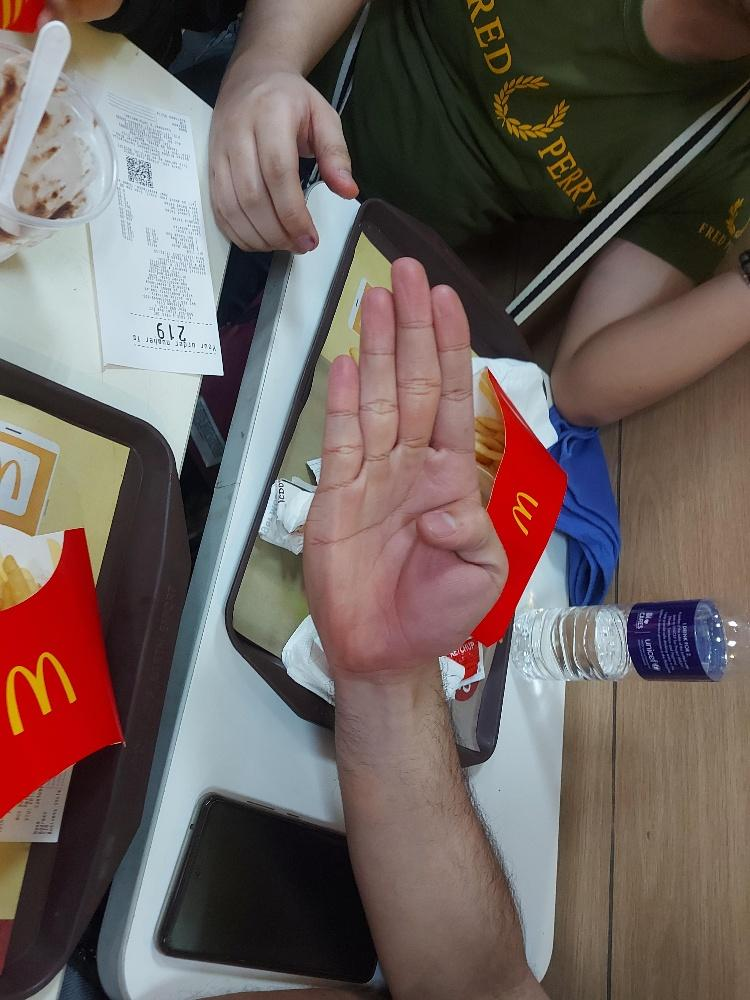b: (297, 252, 513, 678)
